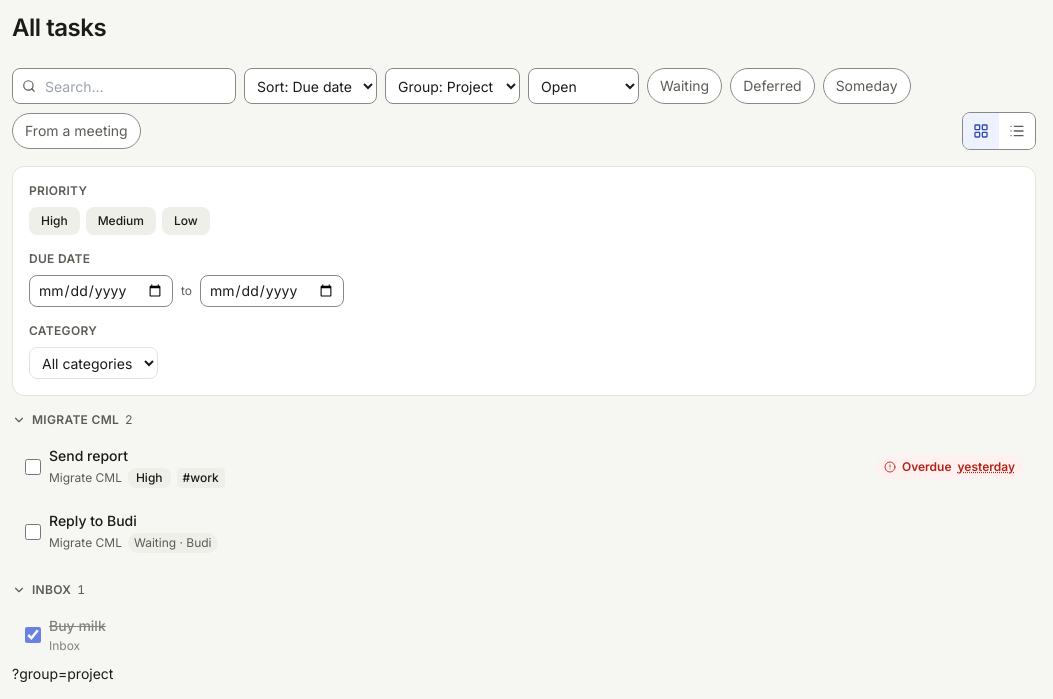
All tasks page: search, sort, group and view › groups by project with counts and lets a group collapse
Check: the button "Send report" is shown, box [49, 446, 868, 466]
Check: the element "Inbox" is shown, box [12, 582, 1036, 663]
Click the button "Migrate CML 2" at (73, 420), box [12, 412, 133, 428]
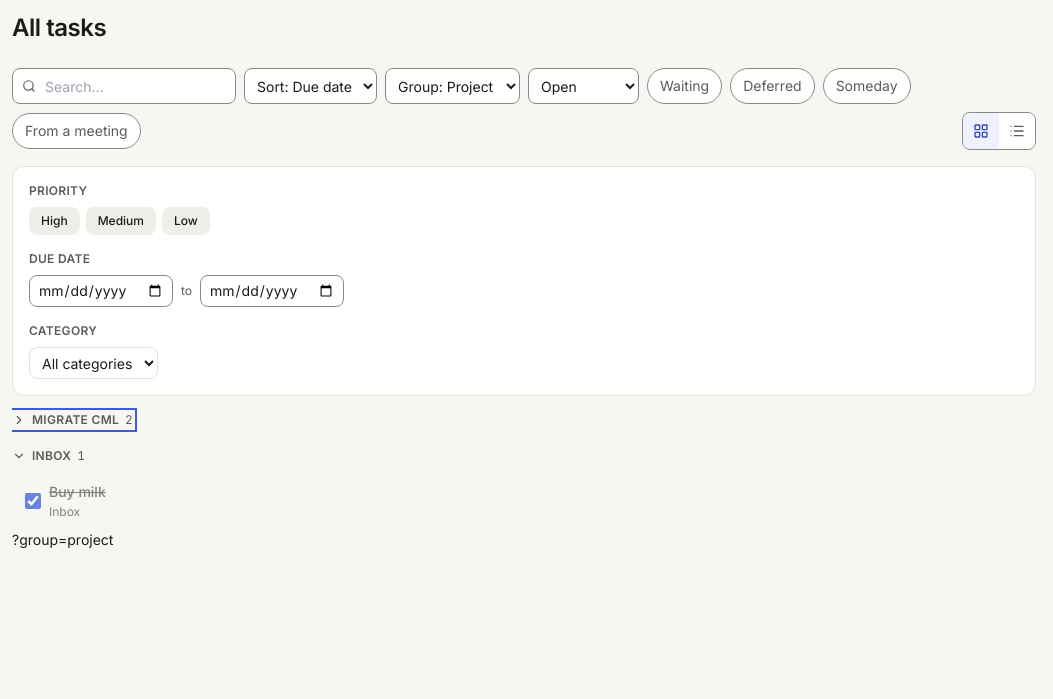
Check: the button "Send report" is gone
Check: the button "Migrate CML 2" is collapsed
Click the button "Migrate CML 2" at (73, 420), box [12, 412, 133, 428]
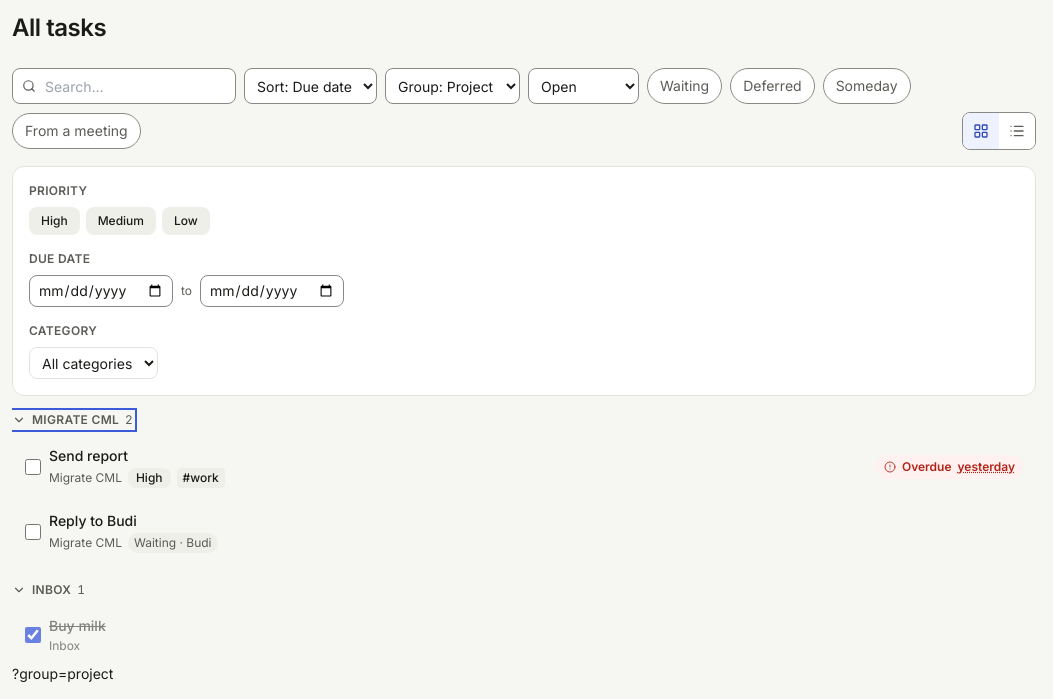
Check: the button "Send report" is shown, box [49, 446, 868, 466]
